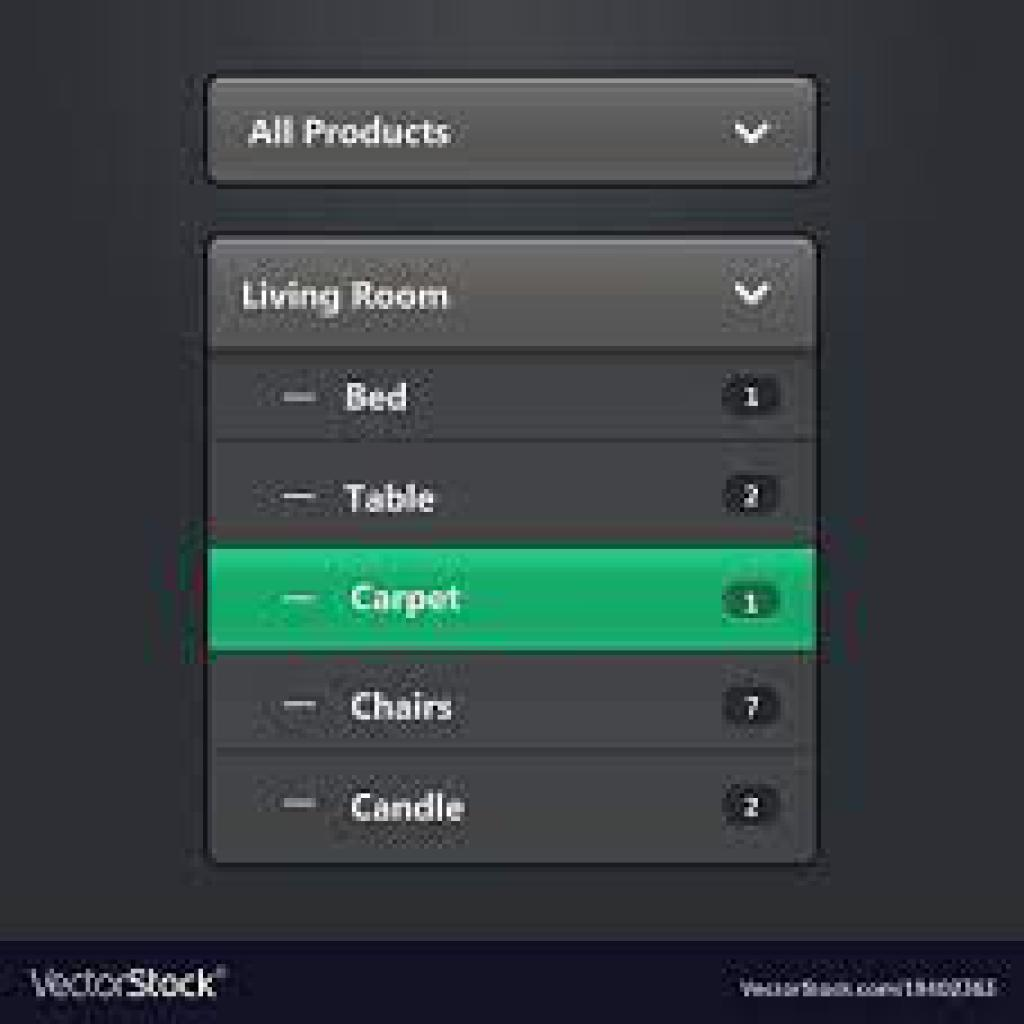button: (211, 753, 819, 865), (211, 548, 819, 653), (210, 445, 818, 547), (211, 655, 818, 752), (207, 352, 818, 445)
dropdown: (209, 239, 818, 352), (205, 76, 820, 185)
